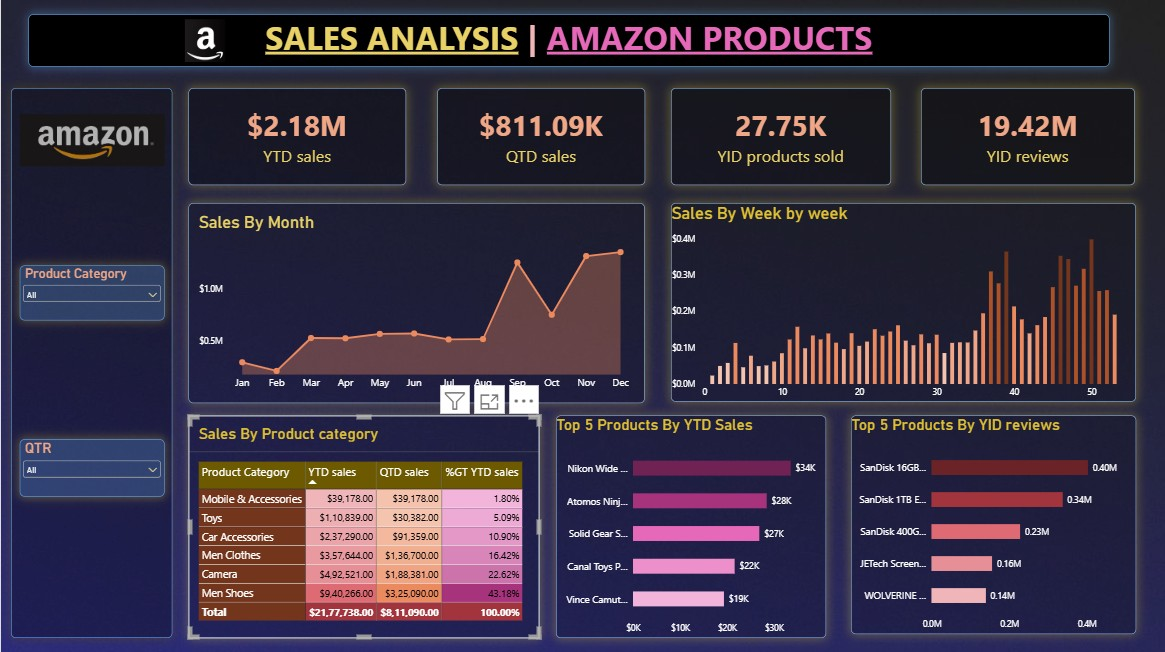

The dashboard page shown, as its layout file describes it:
{"tool":"powerbi","page":{"name":"Page 1","canvas":[1920,1080],"ordinal":0},"visuals":[{"type":"textbox","box":[46,26,1780,86],"z":0},{"type":"image","box":[30,148,238,172],"z":1000},{"type":"textbox","box":[16.5,148.2,265.5,905.7],"z":2000},{"type":"cardVisual","fields":{"Data":["Amazon_Data.YTD sales"]},"box":[308,148,358,160],"z":3000},{"type":"cardVisual","fields":{"Data":["Amazon_Data.QTD sales"]},"box":[718.4,148.2,342,160],"z":4000},{"type":"cardVisual","fields":{"Data":["Amazon_Data.YID products sold"]},"box":[1103.3,148.2,362,160],"z":5000},{"type":"cardVisual","fields":{"Data":["Amazon_Data.YID reviews"]},"box":[1514.9,148.2,352,160],"z":6000},{"type":"slicer","fields":{"Values":["Amazon_Data.Product Category"]},"box":[30,440,238,90],"z":7000},{"type":"slicer","fields":{"Values":["date.qtr"]},"box":[30,726,238,94],"z":8000},{"type":"image","box":[282,34,108,70],"z":9000},{"type":"areaChart","title":"Sales By Month","fields":{"Category":["date.month_name"],"Y":["Sum(Amazon_Data.Price(Dollar))"]},"box":[308.7,337.6,751.3,329.3],"z":10000},{"type":"columnChart","title":"Sales By Week by week","fields":{"Category":["date.week"],"Y":["Sum(Amazon_Data.Price(Dollar))"]},"box":[1103.3,337.6,765.7,327.3],"z":11000},{"type":"clusteredBarChart","title":"Top 5 Products By YID reviews","fields":{"Y":["Amazon_Data.YID reviews"],"Category":["Amazon_Data.Product Description"]},"box":[1399.7,687.5,469.3,360.2],"z":12000},{"type":"clusteredBarChart","title":"Top 5 Products By YTD Sales","fields":{"Y":["Amazon_Data.YTD sales"],"Category":["Amazon_Data.Product Description"]},"box":[913.9,687.5,444.6,366.4],"z":13000},{"type":"pivotTable","title":"Sales By Product category","fields":{"Rows":["Amazon_Data.Product Category"],"Values":["Amazon_Data.YTD sales","Amazon_Data.QTD sales","Divide(Amazon_Data.YTD sales, ScopedEval(Amazon_Data.YTD sales, []))"]},"box":[308.7,687.5,578.4,366.4],"z":14000}]}

Visuals, with their boxes in screenshot pixels (x1, y1, x2, y2), scaled from the page's 1920x1080 canvas onto the 1165x652 screenshot:
textbox: 28:16:1108:68
image: 18:89:163:193
textbox: 10:89:171:636
cardVisual - Amazon_Data.YTD sales: 187:89:404:186
cardVisual - Amazon_Data.QTD sales: 436:89:643:186
cardVisual - Amazon_Data.YID products sold: 669:89:889:186
cardVisual - Amazon_Data.YID reviews: 919:89:1133:186
slicer - Amazon_Data.Product Category: 18:266:163:320
slicer - date.qtr: 18:438:163:495
image: 171:21:237:63
"Sales By Month" areaChart: 187:204:643:403
"Sales By Week by week" columnChart: 669:204:1134:401
"Top 5 Products By YID reviews" clusteredBarChart: 849:415:1134:633
"Top 5 Products By YTD Sales" clusteredBarChart: 555:415:824:636
"Sales By Product category" pivotTable: 187:415:538:636
